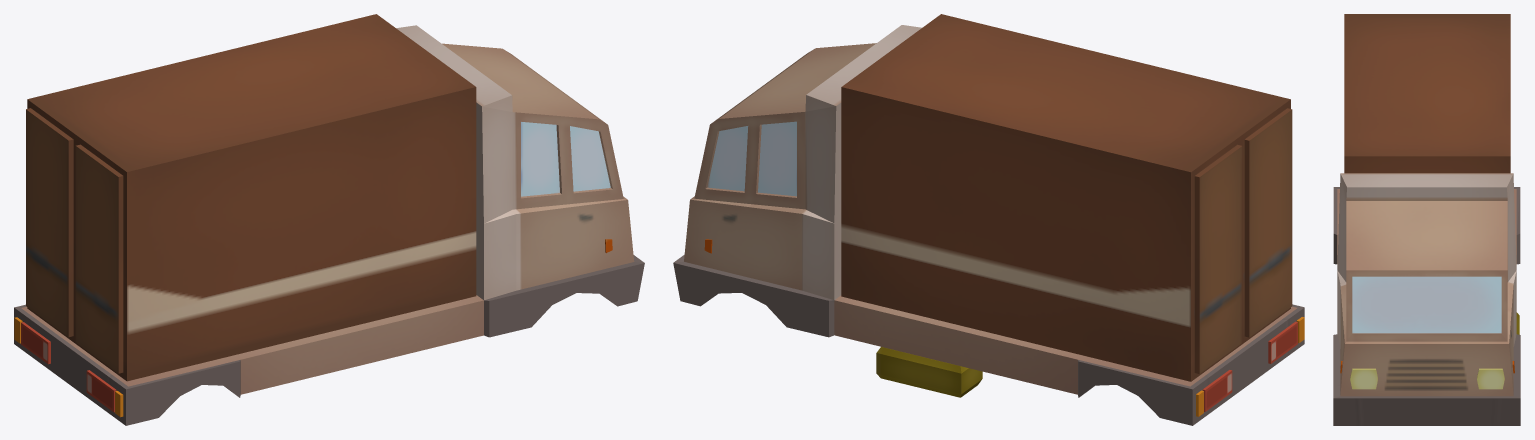
The model's file is co_Truck04.fbx.
3 views of the same model, side by side, from view 1: azimuth 30°, elevation 25°; view 2: azimuth 150°, elevation 25°; view 3: azimuth 270°, elevation 25° (orthographic). The views are drawn at different scales.
Visible parts, largest first — view 1: Truck04; view 2: Truck04; view 3: Truck04.
Boxes of the visible parts, box(x1,y1,x2,y2) form: Truck04: box(14, 14, 644, 425); Truck04: box(673, 14, 1304, 425); Truck04: box(1333, 14, 1520, 425).
Size of the model in its own units: 804 by 410 by 300.
